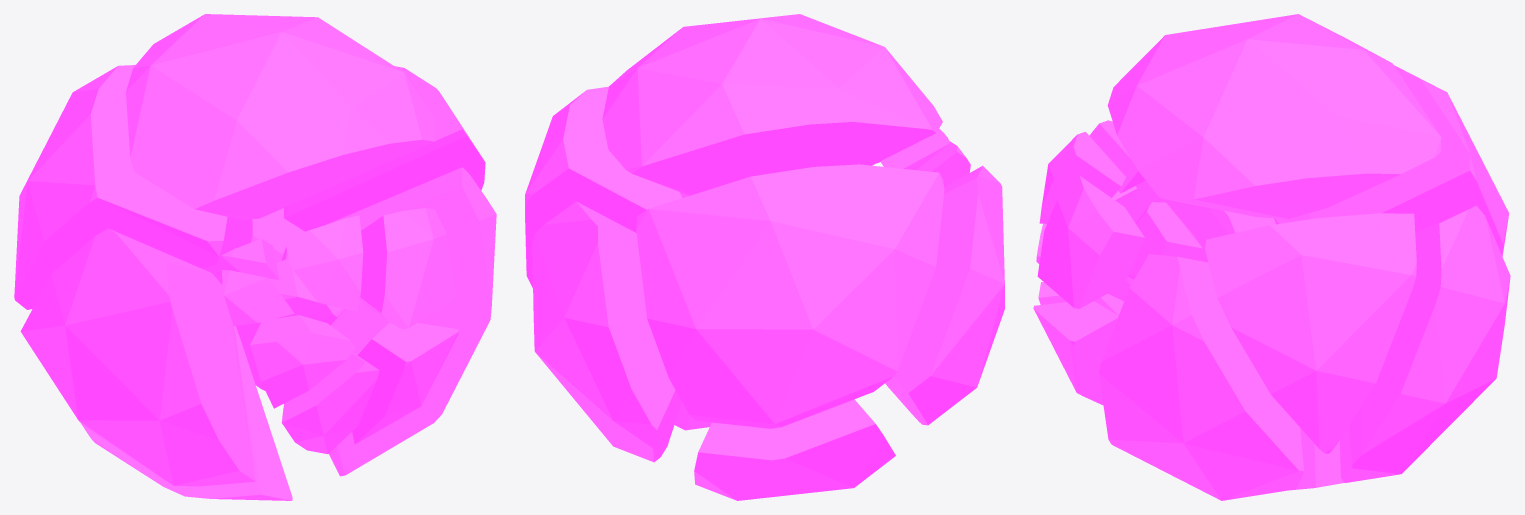
The model's file is planet_7(pivot_for_animation).fbx.
The picture shows the model from 3 angles, left to right: view 1: azimuth 30°, elevation 25°; view 2: azimuth 150°, elevation 25°; view 3: azimuth 270°, elevation 25°; orthographic projection. The views are drawn at different scales.
Visible parts, largest first — view 1: planet7; view 2: planet7; view 3: planet7.
Boxes of the visible parts, left/top/right/bottom form: planet7: left=14, top=14, right=496, bottom=500; planet7: left=525, top=14, right=1004, bottom=500; planet7: left=1033, top=14, right=1510, bottom=500.
Bounding box in the file's own units: 38.08 × 38.11 × 35.75.
